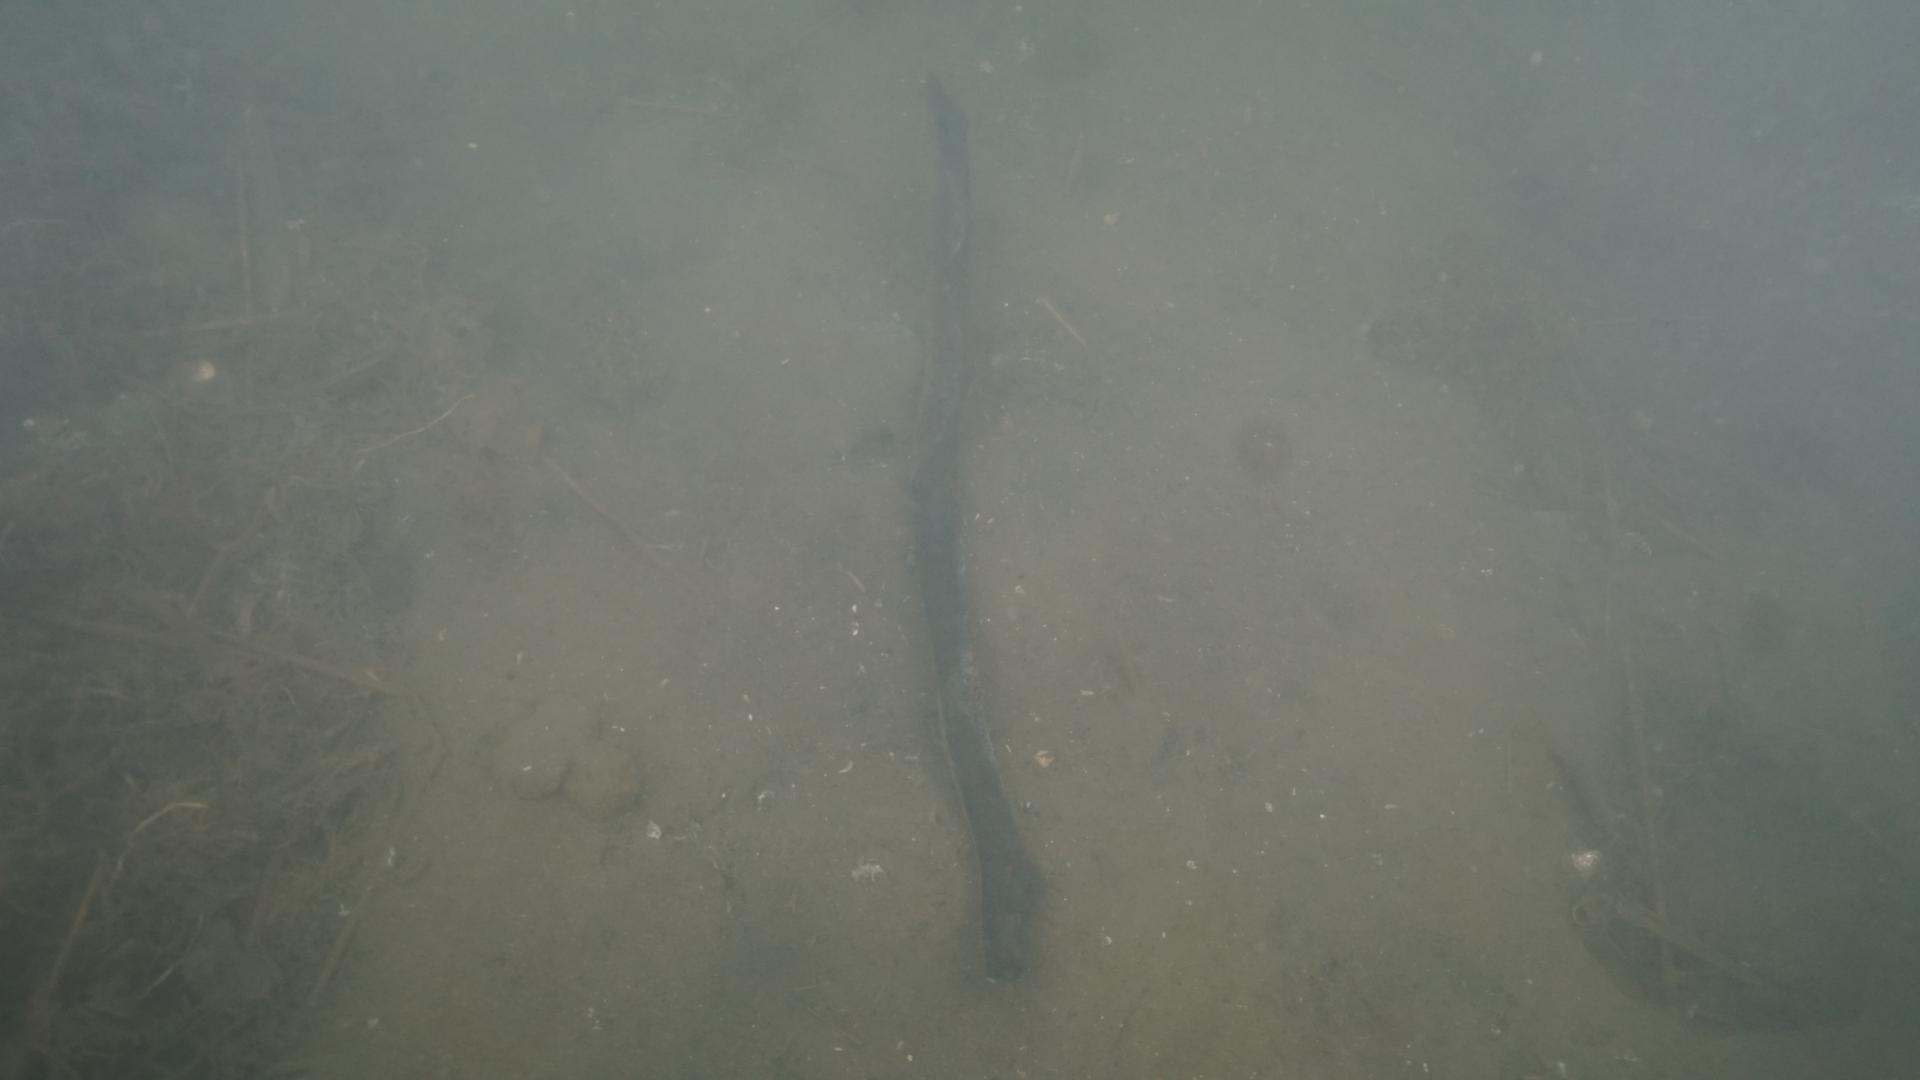wood: (907, 73, 1046, 984)
